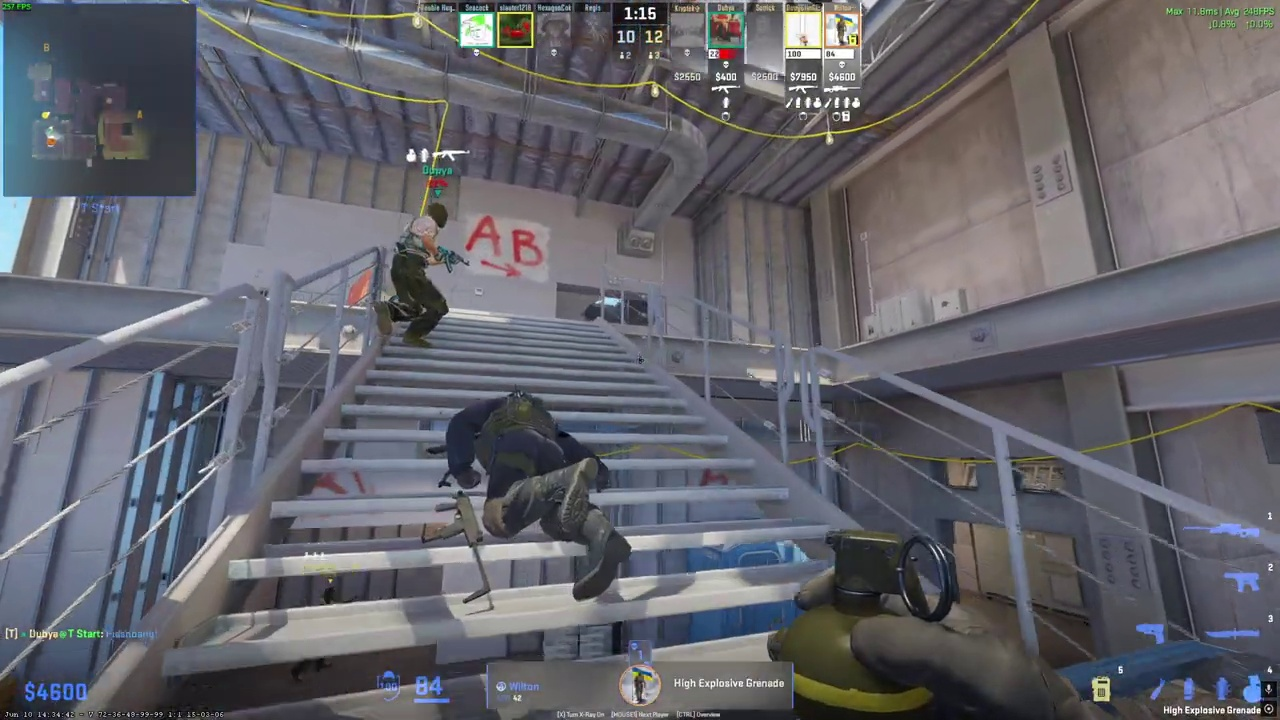Terrorist: (380, 200, 457, 353), (322, 585, 335, 605)
